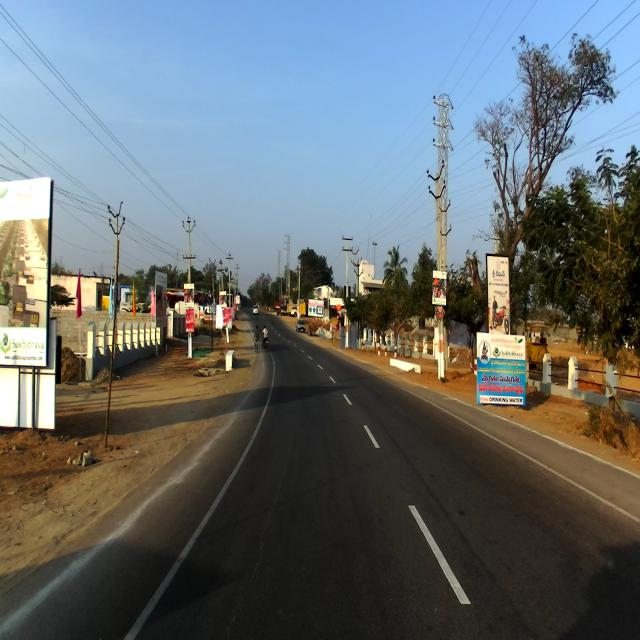barrier ahead at: (472, 324, 531, 414)
electric pole ahead at: (421, 98, 462, 388), (94, 202, 129, 453)
